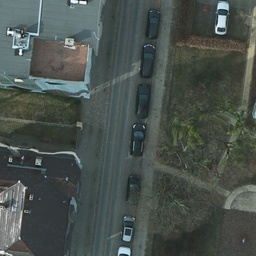car: (130, 124, 146, 157), (125, 173, 141, 206), (145, 8, 160, 40), (214, 1, 229, 33), (140, 44, 155, 76), (136, 84, 151, 116), (120, 216, 135, 244)
